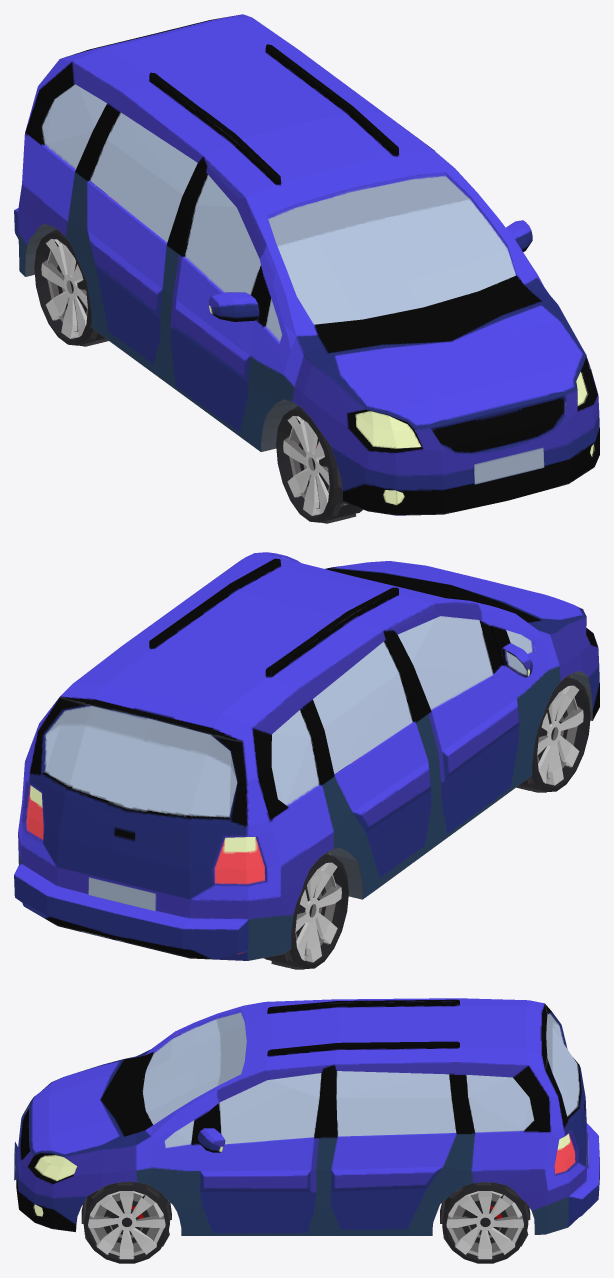
The model's file is CarWSkin.glb.
The picture shows the model from 3 angles, top to bottom: view 1: azimuth 30°, elevation 25°; view 2: azimuth 150°, elevation 25°; view 3: azimuth 270°, elevation 25°; orthographic projection. The views are drawn at different scales.
Visible parts, largest first — view 1: CAR_BODY, FRONT_WHEEL, BACK_WHEELS; view 2: CAR_BODY, BACK_WHEELS, FRONT_WHEEL; view 3: CAR_BODY, FRONT_WHEEL, BACK_WHEELS.
Boxes of the visible parts, x1=… form: CAR_BODY: x1=14, y1=14, x2=599, y2=515; FRONT_WHEEL: x1=276, y1=406, x2=362, y2=523; BACK_WHEELS: x1=34, y1=229, x2=108, y2=346; CAR_BODY: x1=14, y1=552, x2=599, y2=960; BACK_WHEELS: x1=263, y1=852, x2=348, y2=969; FRONT_WHEEL: x1=516, y1=675, x2=590, y2=792; CAR_BODY: x1=14, y1=998, x2=599, y2=1235; FRONT_WHEEL: x1=81, y1=1181, x2=171, y2=1263; BACK_WHEELS: x1=440, y1=1182, x2=530, y2=1263.
Size of the model in its own units: 2.23 by 1.79 by 4.79.
Materials: 2 (2 with a texture image).
